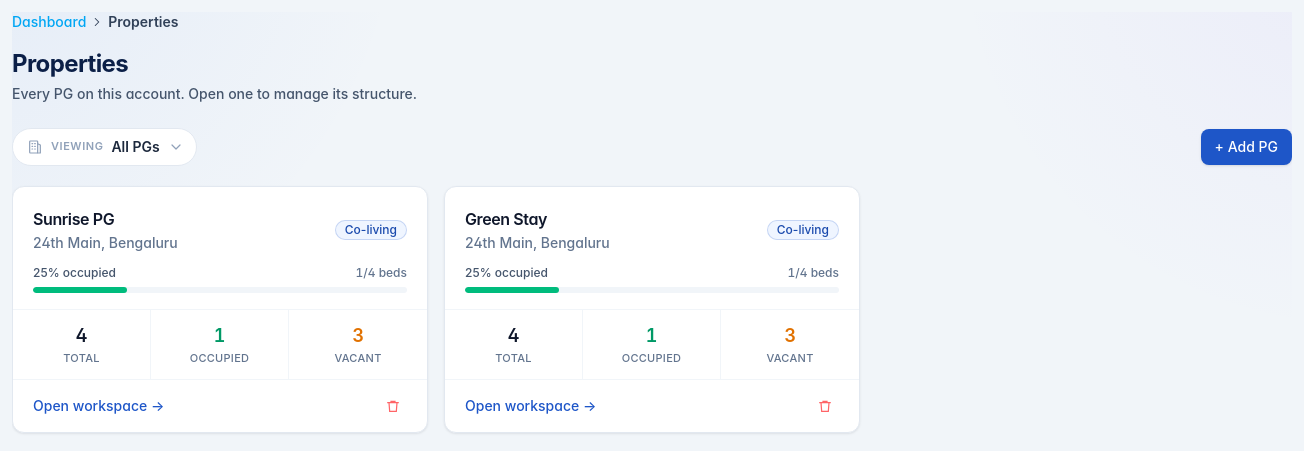
Scenario: PropertiesPage — Viewing filter › opens a real listbox, not a native select, with both PGs listed
Expected: the button "Sunrise PG" is shown, [33, 207, 114, 231]
Click the button "Viewing All PGs".
click(104, 147)  # box [12, 128, 197, 166]
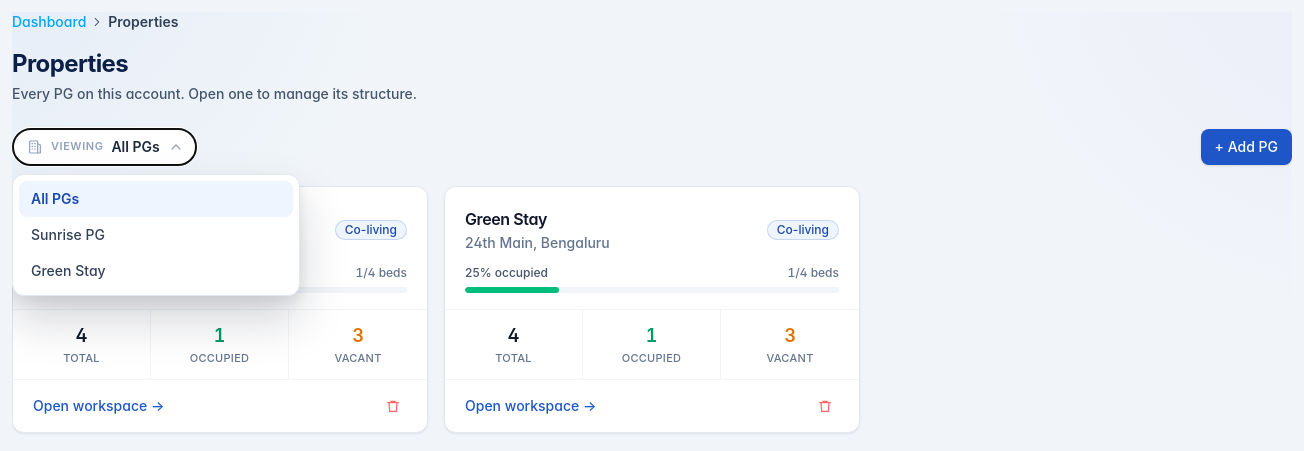
Expected: the option "All PGs" is shown, [19, 181, 293, 217]
Expected: the option "Sunrise PG" is shown, [19, 217, 293, 253]
Expected: the option "Green Stay" is shown, [19, 253, 293, 289]
